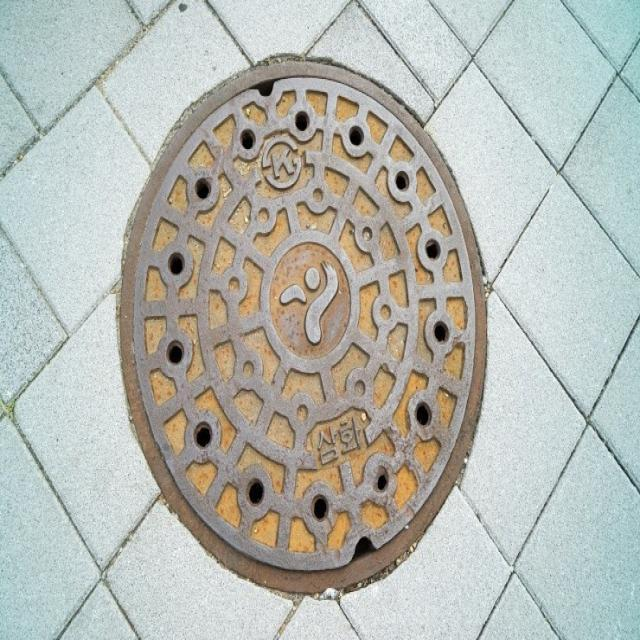manhole: (115, 56, 488, 600)
